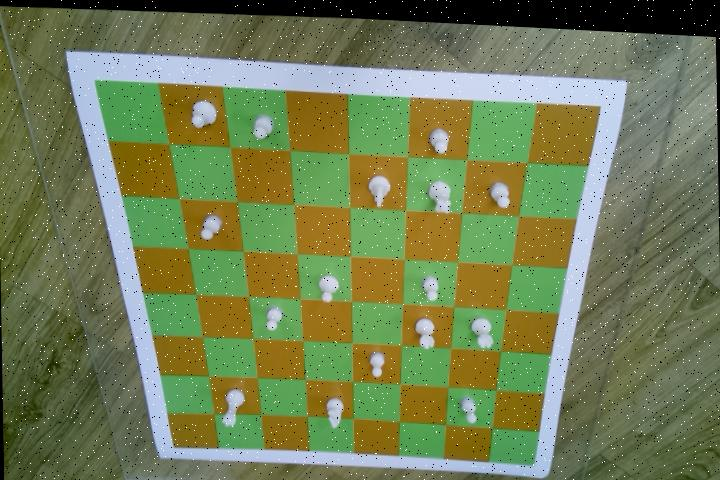chessboard-detect: (91, 79, 602, 461)
